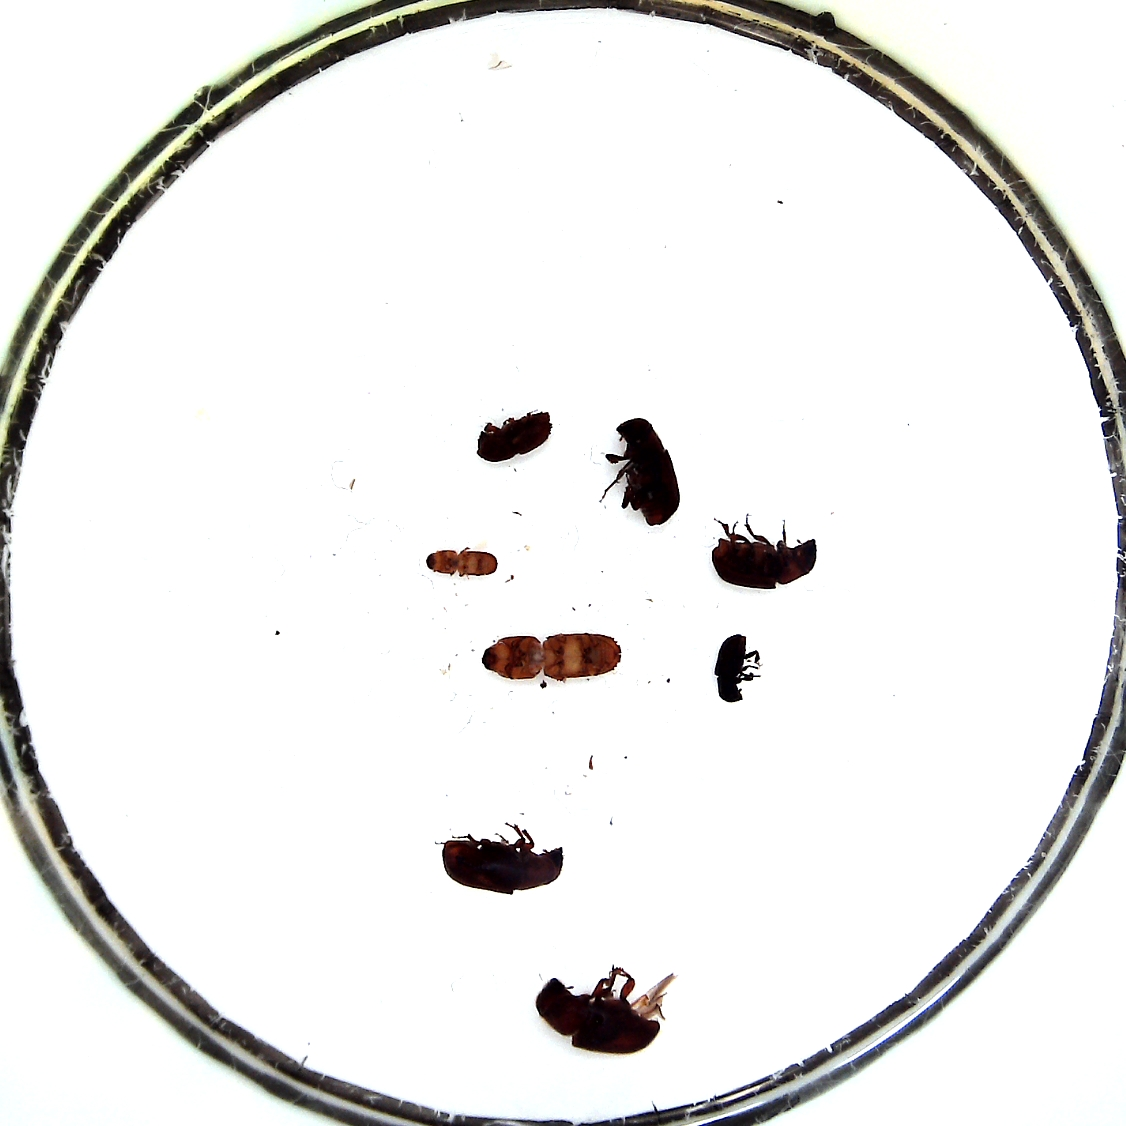Boerner: (477, 631, 624, 682)
Leconte: (534, 967, 664, 1054), (439, 826, 565, 894), (603, 415, 680, 526), (710, 520, 819, 590)
Linnaeus: (475, 410, 555, 464)
acuminatus: (424, 543, 501, 579)
armandi: (713, 631, 757, 705)
